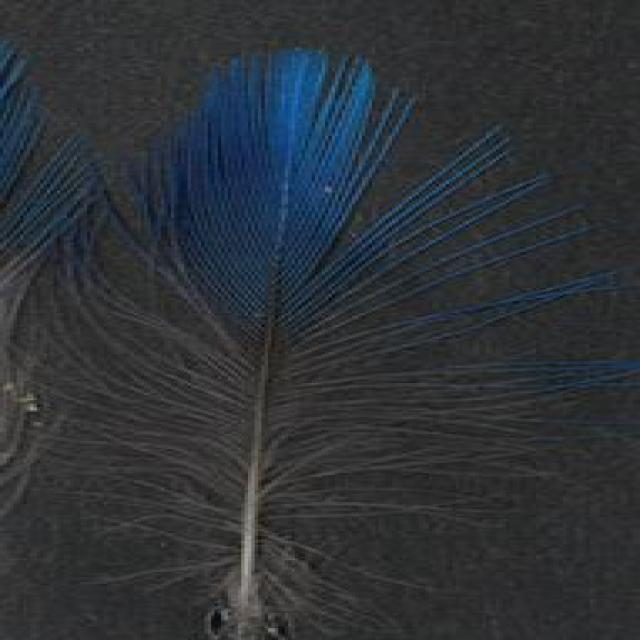feather: (6, 45, 640, 640)
